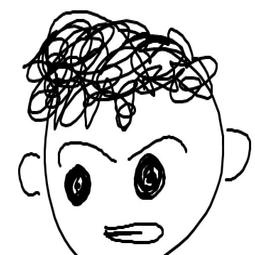ear: (218, 122, 254, 185), (16, 148, 50, 197)
eye: (126, 151, 172, 203), (63, 160, 96, 208)
frowning_eyebrow: (56, 134, 120, 167), (124, 133, 192, 160)
open_mouth: (103, 217, 168, 247)
